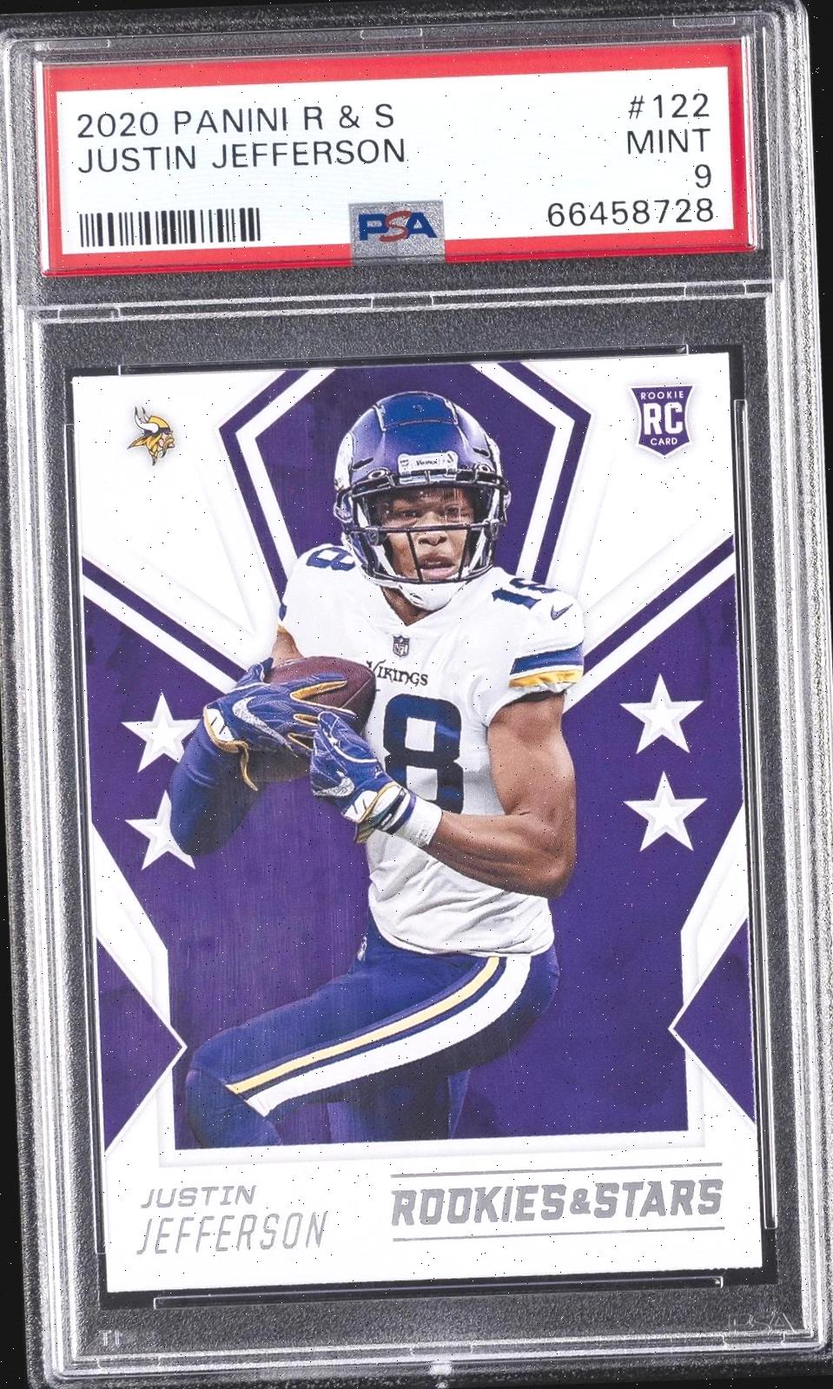card-2UtV: (70, 351, 763, 1294)
